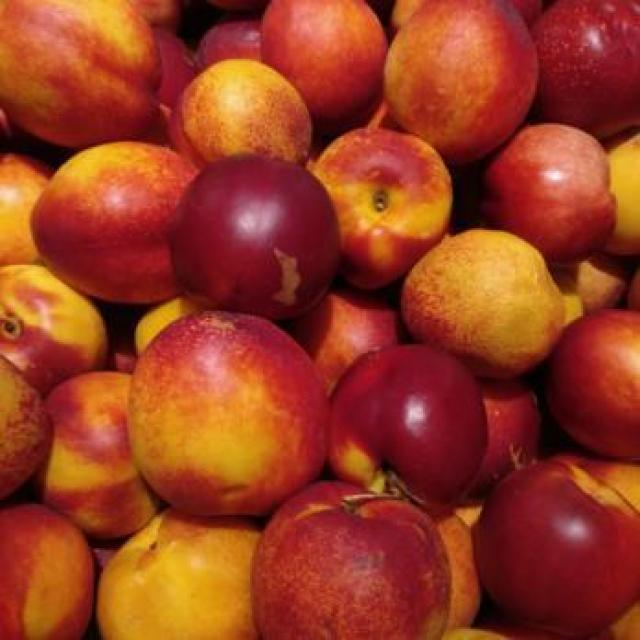Nectarine: (129, 309, 322, 515), (256, 482, 454, 638), (478, 458, 638, 640), (32, 142, 200, 302), (175, 156, 338, 314), (320, 346, 489, 498), (408, 228, 566, 381), (304, 127, 452, 289), (0, 0, 162, 142), (379, 6, 535, 152), (263, 0, 388, 121)
